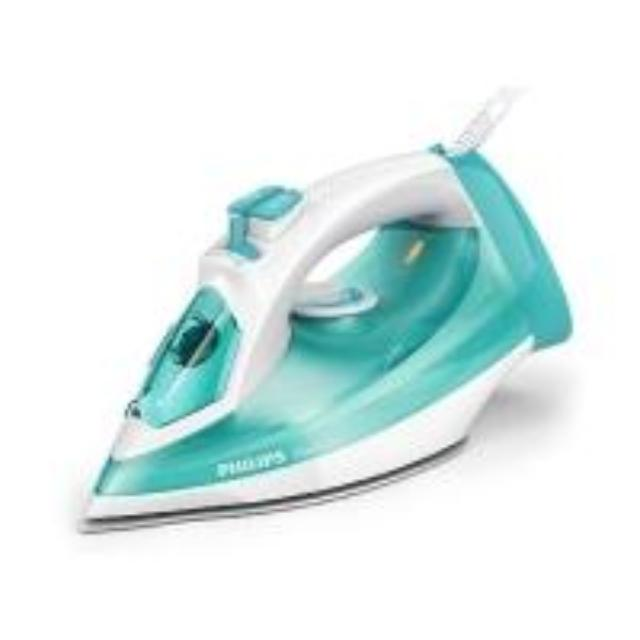Clothes-Iron: (62, 138, 586, 542)
